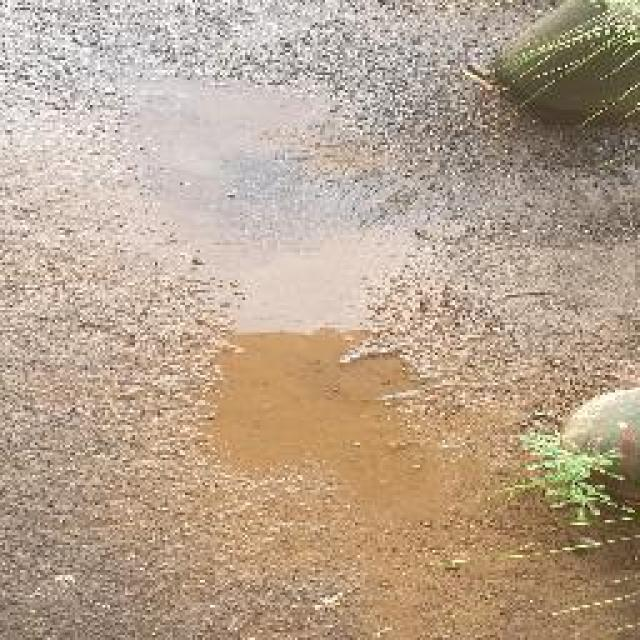stagnation: (208, 297, 463, 501)
